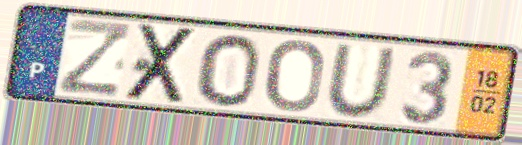3: (397, 47, 456, 127)
O: (194, 32, 263, 109), (263, 37, 326, 114)
U: (323, 42, 400, 121)
X: (120, 22, 202, 106)
Z: (55, 15, 135, 98)
